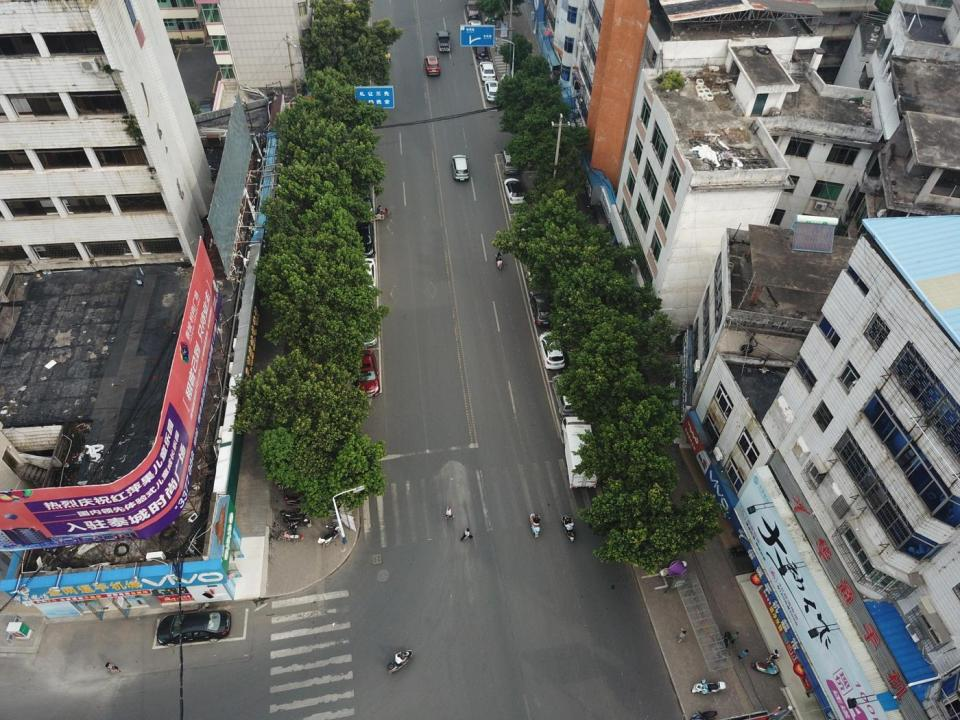car: (156, 610, 231, 646), (356, 349, 380, 396), (538, 330, 565, 370), (519, 247, 548, 282), (355, 302, 378, 346), (531, 294, 555, 325), (356, 222, 376, 257), (359, 258, 377, 293), (503, 177, 524, 204), (451, 154, 470, 180), (484, 80, 500, 103), (479, 61, 496, 81), (424, 55, 440, 75), (467, 20, 483, 38), (472, 41, 488, 58)
truck: (560, 416, 600, 491), (436, 30, 451, 52), (465, 0, 478, 19)
van: (552, 374, 584, 416), (499, 149, 521, 175)
